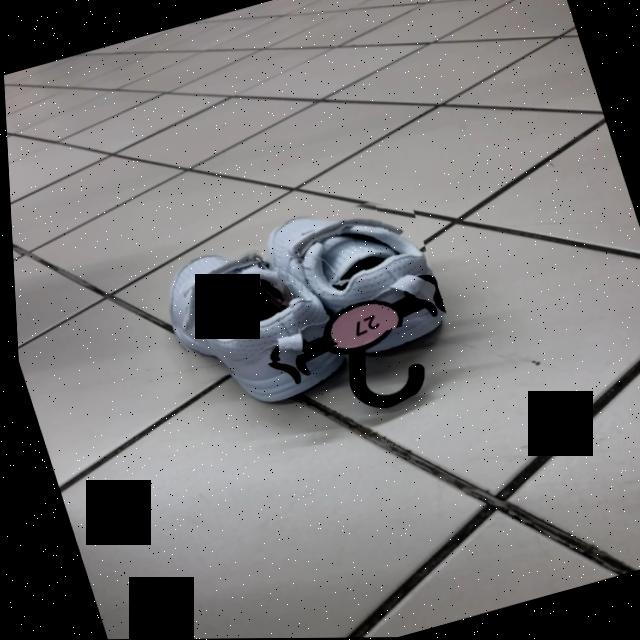shoe: (265, 217, 443, 321), (169, 254, 286, 370)
